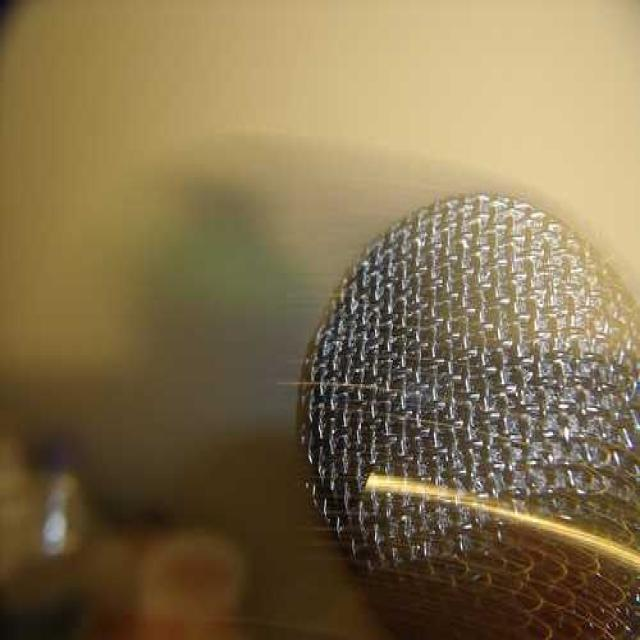microphone: (285, 179, 636, 640)
